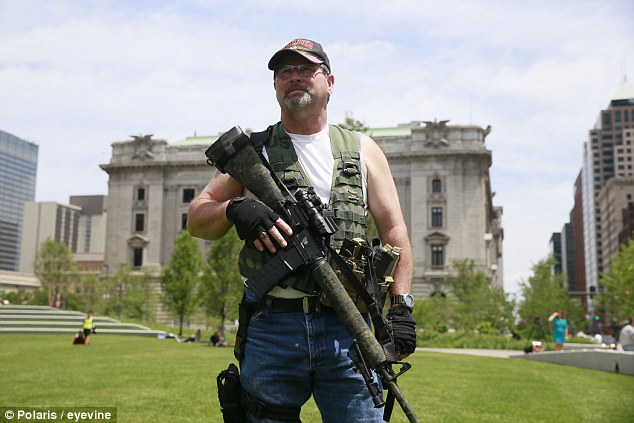Rifle: (204, 120, 419, 423)
